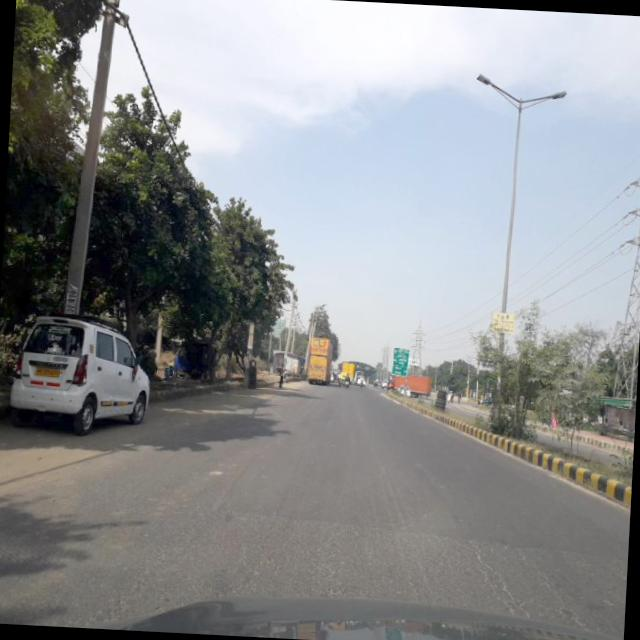pothole: (354, 458, 448, 602), (456, 530, 591, 620), (162, 446, 297, 536)
